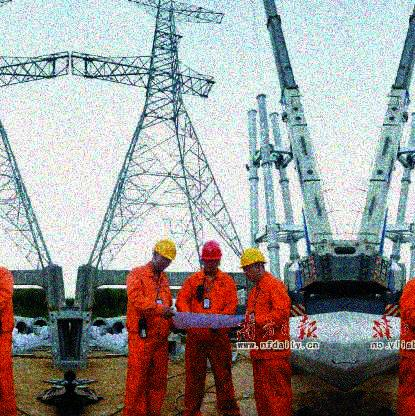helmet: (153, 238, 178, 275), (240, 248, 267, 282), (200, 241, 222, 274)
